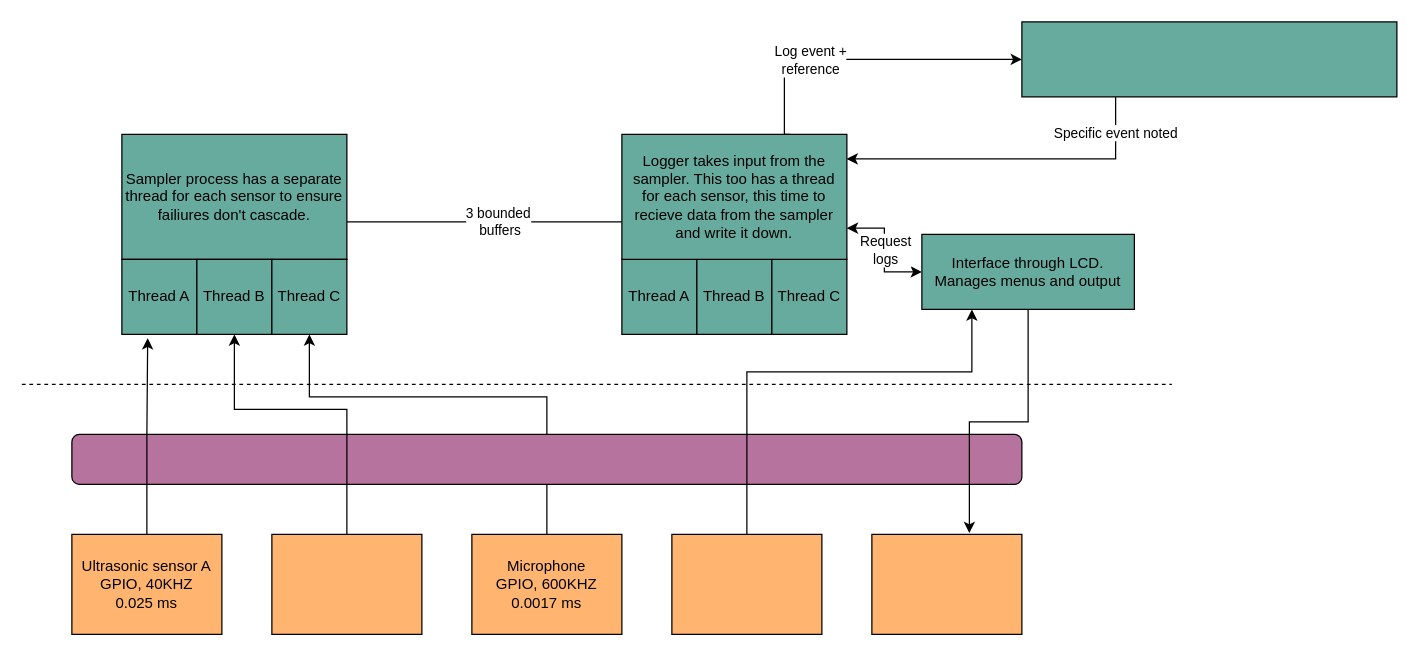
Some shapes in this 1419 by 656 pixel diagram are drawn without their labels. Each missing label, with the box of its shape:
Analytics engine takes data and decides if its meaningful or not.: (1021, 21, 1397, 97)
Kernel space: GPIO driver: WiringPi.h: (71, 433, 1022, 484)
Keypad GPIO, Event driven: (671, 533, 822, 634)
LCD Parrellel data transfer 2 MHZ 500 ns: (871, 533, 1022, 634)
Ultrasonic sensor B GPIO, 40KHZ 0.025 ms: (271, 533, 422, 634)
